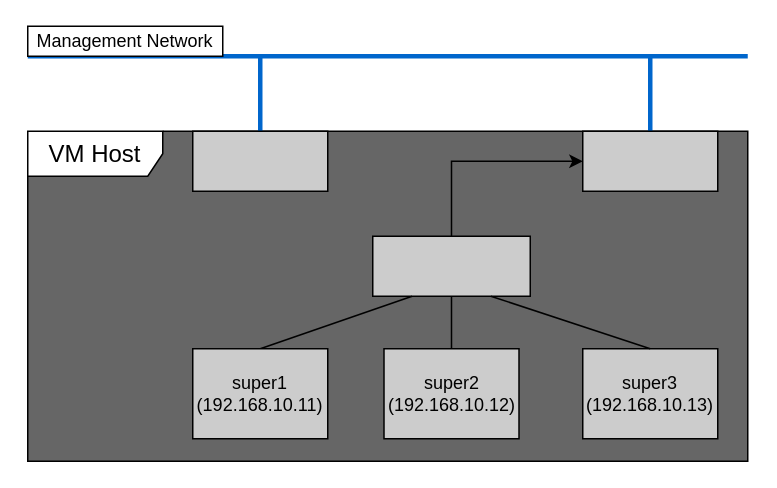
The diagram is 777 pixels wide and 488 high, and some of its shapes have lost their labels. Each missing label, with the box of its shape:
eno1 (192.168.10.6): (191, 130, 328, 191)
eno2 (bridge-slave): (581, 130, 718, 191)
Virtual Bridge (192.168.10.7): (371, 235, 530, 296)
